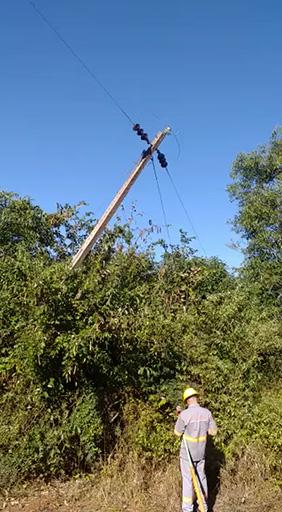Vara_Manobra: (178, 418, 207, 512)
